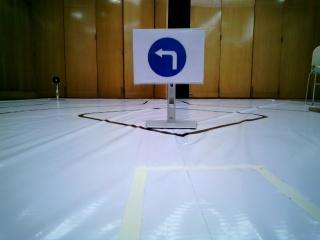left: (136, 33, 196, 79)
